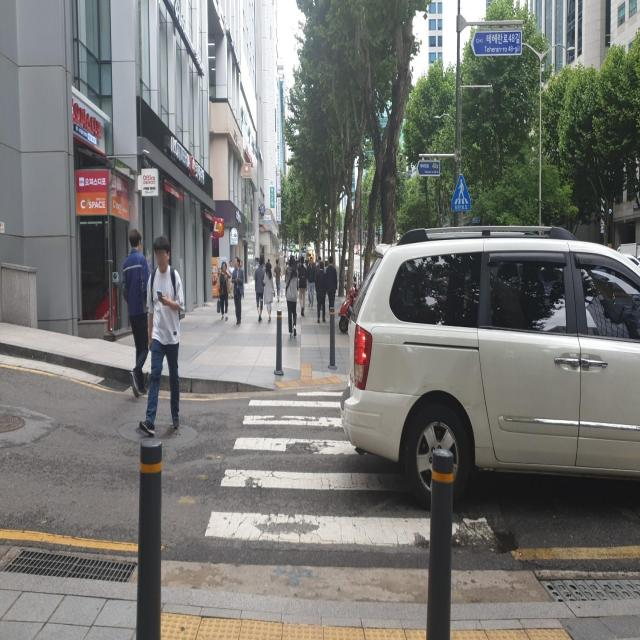횡단보도: (202, 386, 501, 552)
